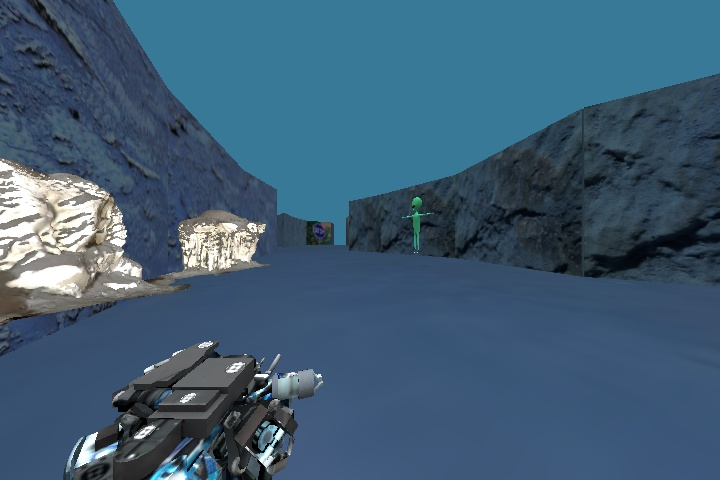formation: (1, 161, 140, 321), (164, 195, 271, 280)
green_alien: (396, 195, 443, 262)
